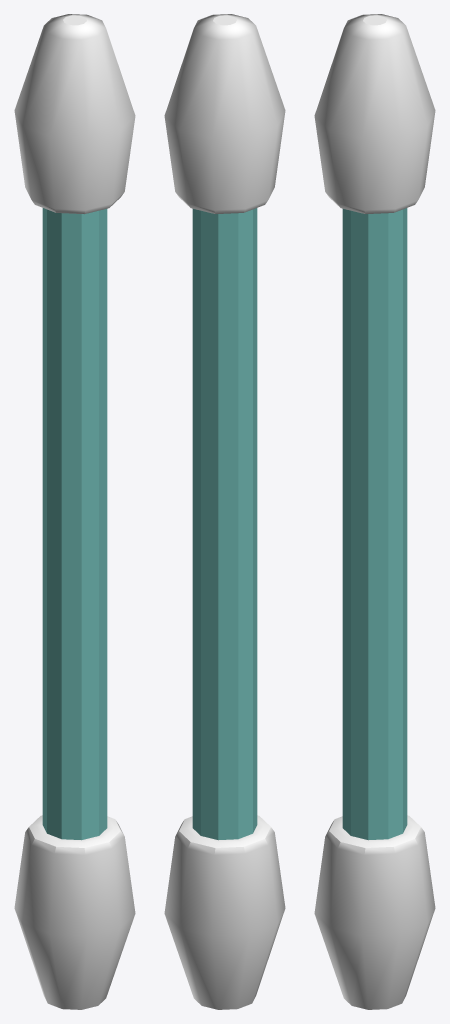
File: Q-Tip Model.fbx
3 renders of one model, left to right at view 1: azimuth 30°, elevation 25°; view 2: azimuth 150°, elevation 25°; view 3: azimuth 330°, elevation 25°, orthographic.
Parts seen in each view (by area): view 1: Q_Tip; view 2: Q_Tip; view 3: Q_Tip.
Boxes of the visible parts, x1,y1,x2,y2 form: Q_Tip: (14, 14, 135, 1009); Q_Tip: (164, 14, 285, 1009); Q_Tip: (314, 14, 435, 1009).
Size of the model in its own units: 1.1 by 9.85 by 1.05.
1 material, 1 textured.
